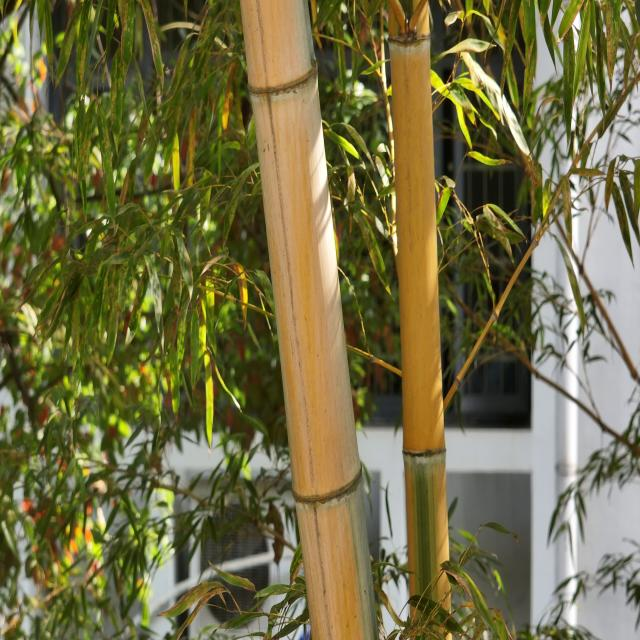Bamboo-shoots: (240, 0, 379, 640), (388, 0, 451, 640)
